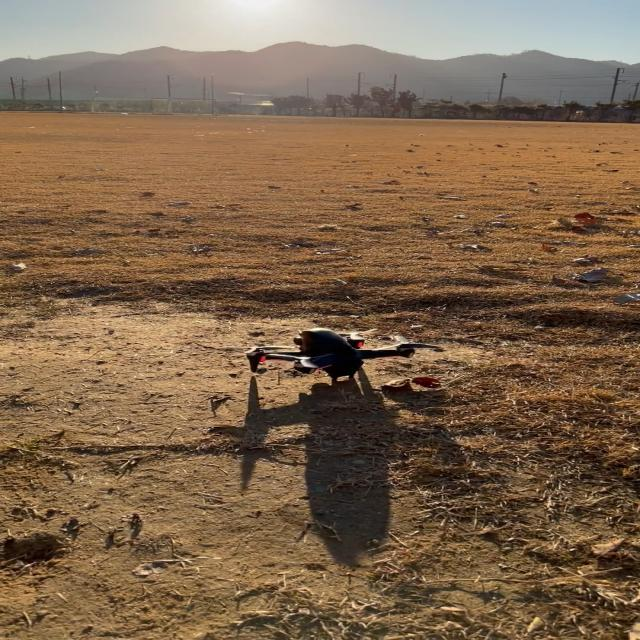drone: (241, 326, 443, 385)
